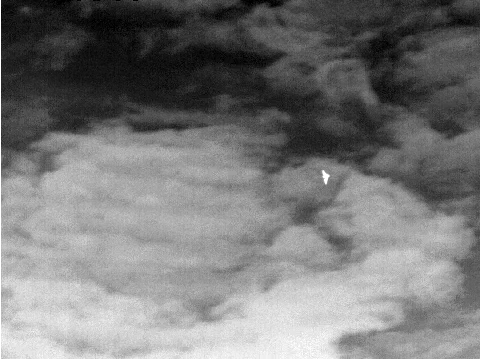dim target: (320, 169, 331, 185)
